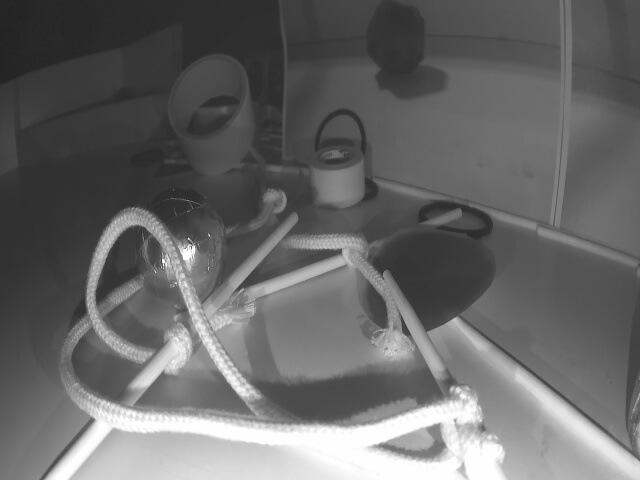Live: (137, 196, 222, 300)
Point: (13, 99, 180, 161)
